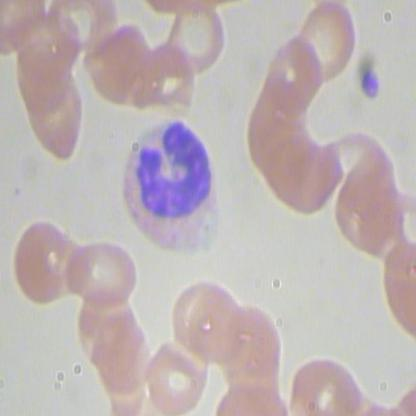Platelets: (355, 71, 379, 102)
RBC: (6, 216, 71, 309), (294, 1, 361, 82), (142, 337, 211, 415), (163, 1, 229, 74), (71, 236, 136, 309)
WBC: (112, 110, 227, 270)
